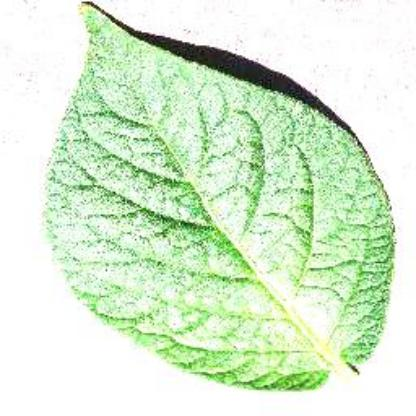Healthy-plant: (42, 21, 398, 387)
